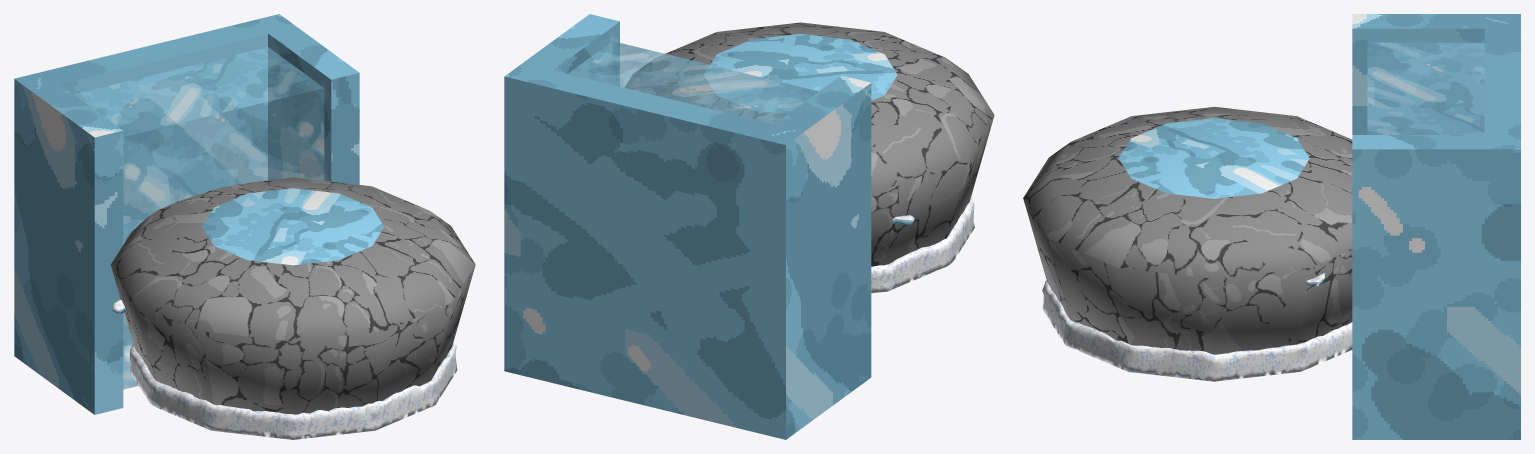
File: Canada Arena.fbx
3 renders of one model, left to right at view 1: azimuth 30°, elevation 25°; view 2: azimuth 150°, elevation 25°; view 3: azimuth 270°, elevation 25°, orthographic. The views are drawn at different scales.
Parts seen in each view (by area): view 1: Cube.021, Sphere.001, Cube, Sphere.004; view 2: Cube.021, Sphere.001, Cube, Sphere.004; view 3: Cube.021, Sphere.001, Cube, Sphere.004.
Boxes of the visible parts, left/top/right/bottom form: Cube.021: left=14, top=14, right=359, bottom=414; Sphere.001: left=111, top=177, right=475, bottom=414; Cube: left=74, top=47, right=324, bottom=389; Sphere.004: left=129, top=343, right=457, bottom=439; Cube.021: left=504, top=14, right=871, bottom=439; Sphere.001: left=624, top=22, right=994, bottom=266; Cube: left=568, top=41, right=818, bottom=124; Sphere.004: left=871, top=197, right=974, bottom=293; Cube.021: left=1352, top=14, right=1520, bottom=439; Sphere.001: left=1023, top=106, right=1352, bottom=354; Cube: left=1367, top=42, right=1484, bottom=134; Sphere.004: left=1042, top=280, right=1352, bottom=381.
Size of the model in its own units: 4192 by 3517 by 5460.
